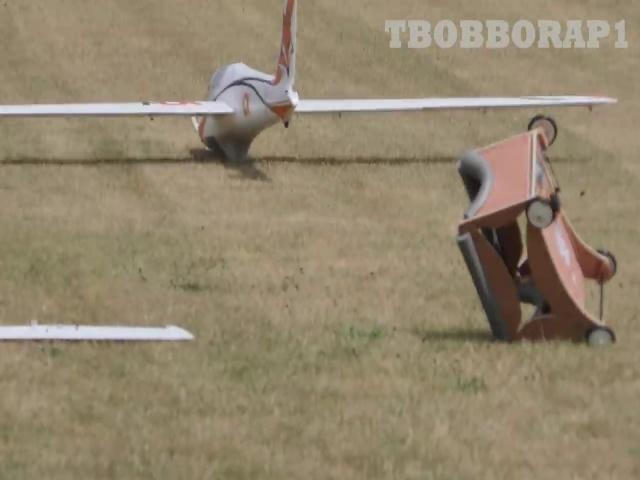Airplane: (1, 1, 618, 160)
